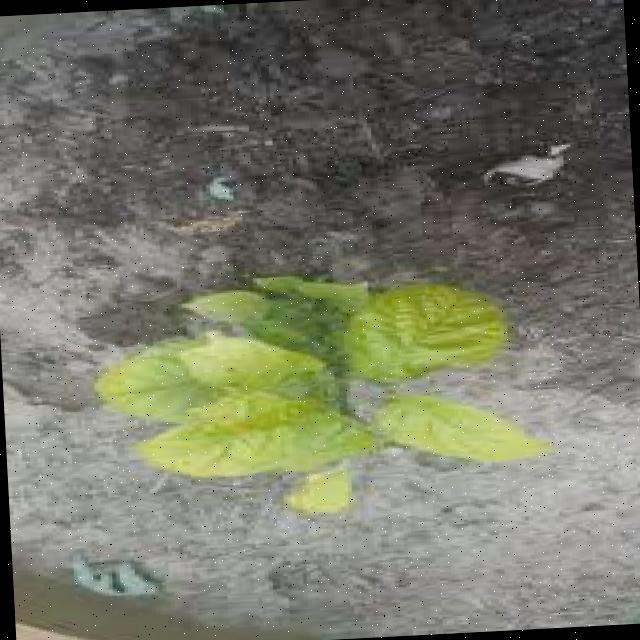yellow: (93, 245, 560, 552)
